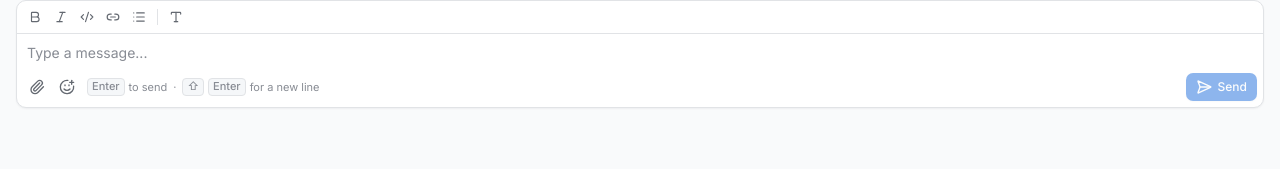
Test: running a slash command › shows an ephemeral reply as private, not as a message
Type "/" into the text box at (640, 53), box [17,34,1263,73]
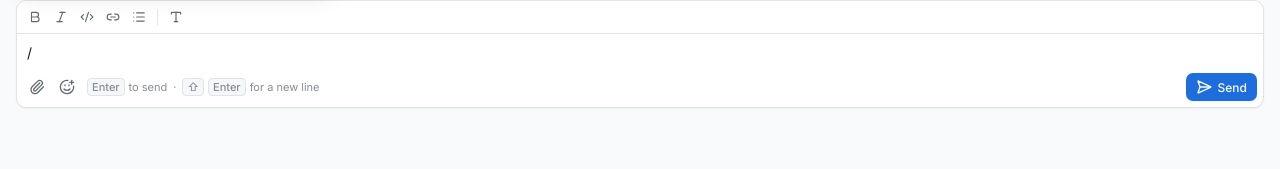
Replace the text in the text box with "/weather London" at (640, 54), box [17,34,1263,73]
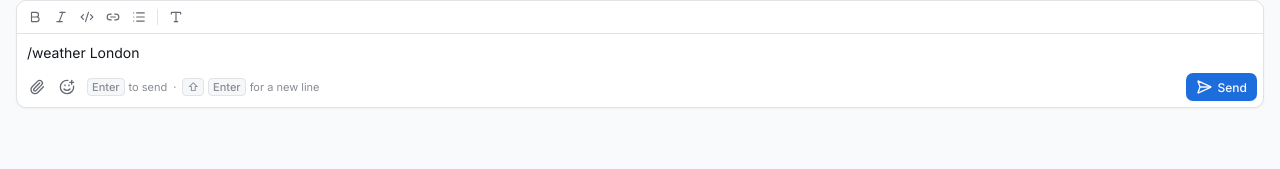
Click the button "Send" at (1221, 87), box [1186,73,1257,101]
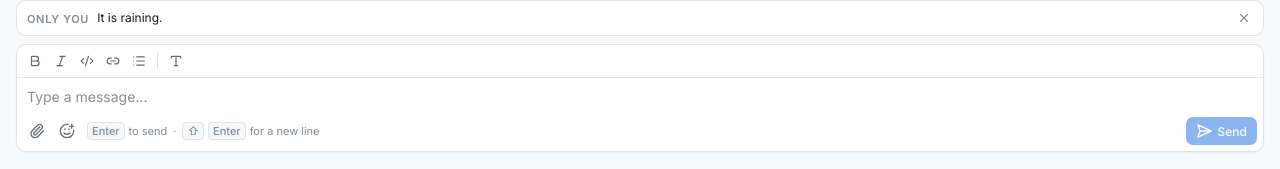
expect the text "It is raining." is shown: met, box [97,10,162,25]
expect the text "Only you" is shown: met, box [27,11,89,27]
